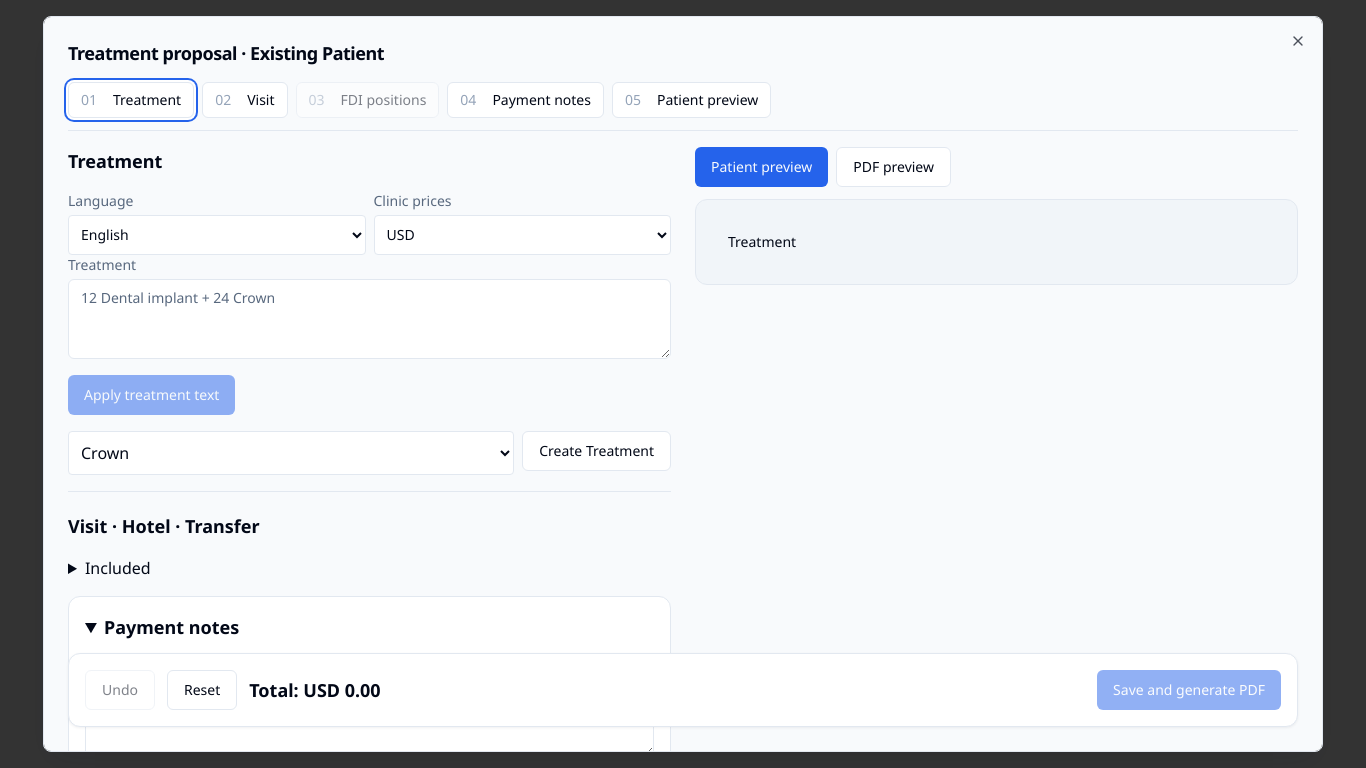
Test: prefills the patient and reads a two-visit proposal with clinic crown prices
expect the heading "Treatment proposal · Existing Patient" is shown: met, box [68, 41, 384, 65]
Type "12 implants + 24 crowns" into the text box labelled "Treatment". click: (370, 319)
box: [68, 279, 671, 359]
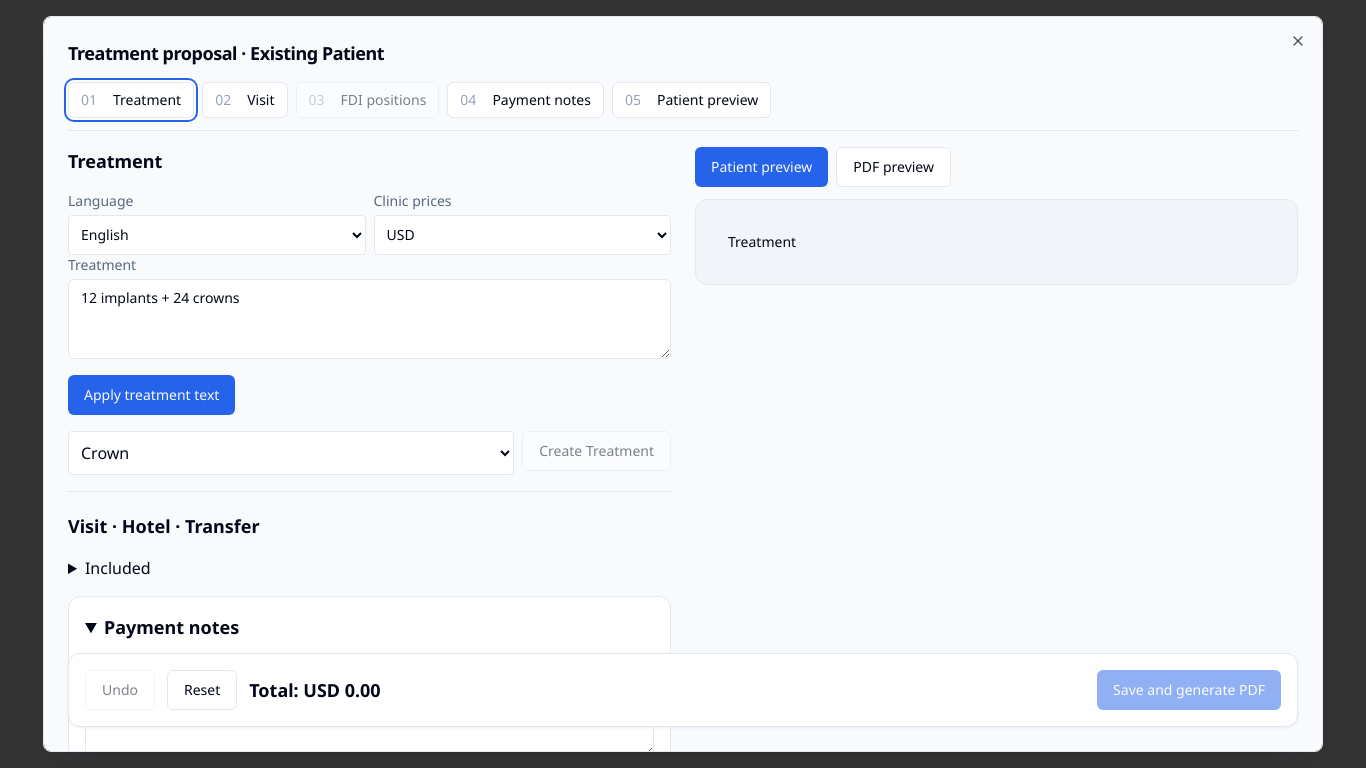
Click the button "Apply treatment text". click: (152, 395)
box: [68, 375, 235, 415]
(page scrolled)
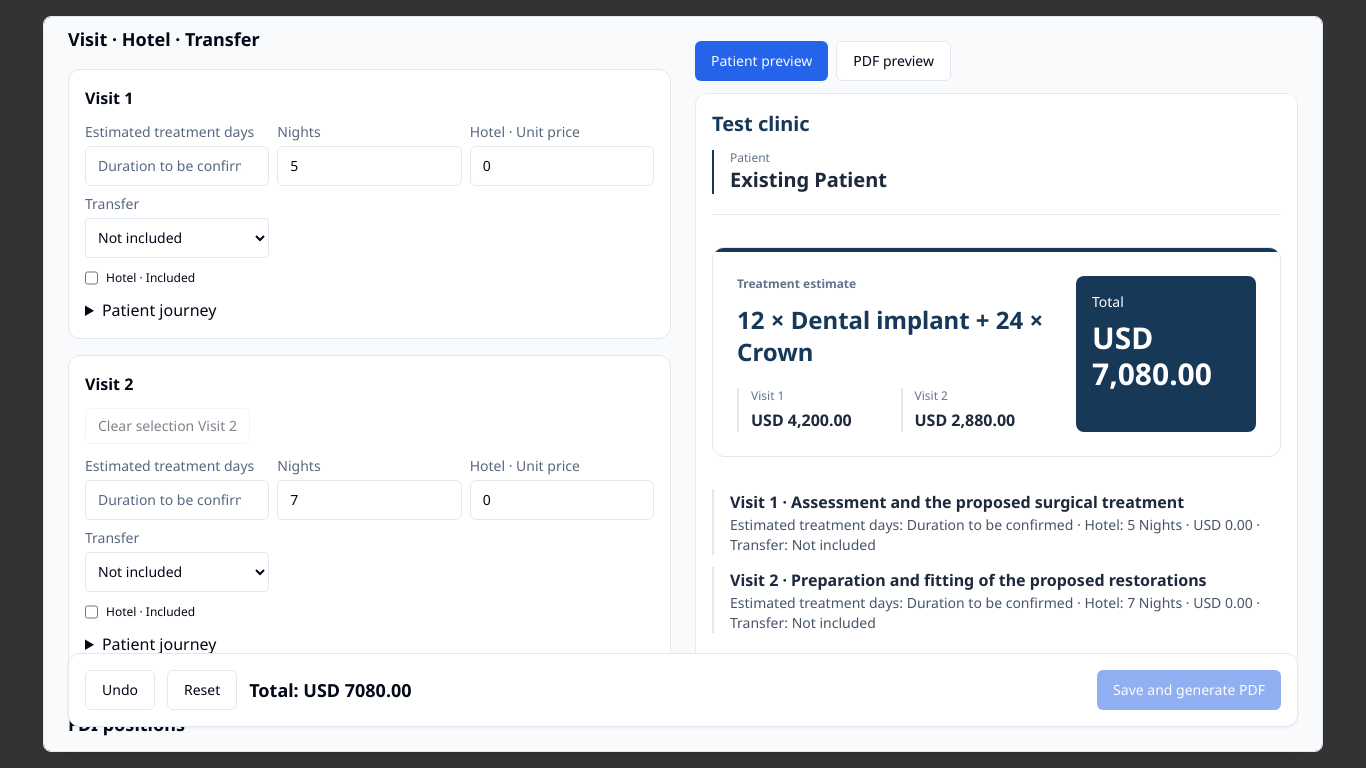
expect the heading "Visit 2" is shown: met, box [85, 373, 133, 395]
